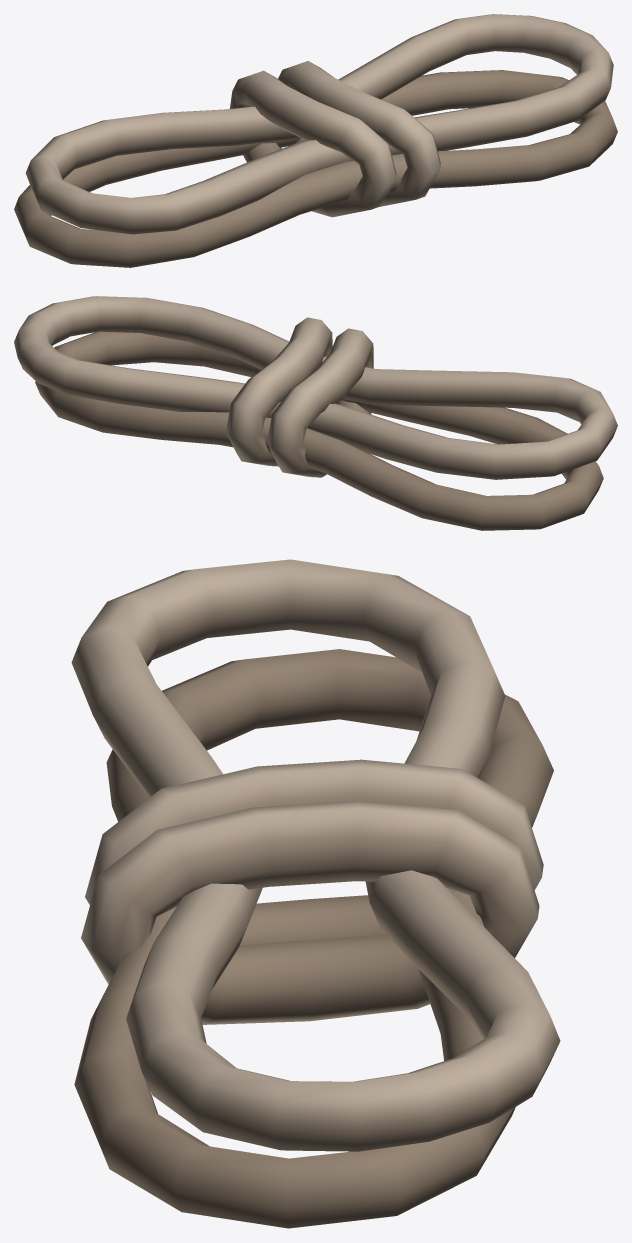
Rendered from rope_bundle_A.fbx.
3 views of the same model, one above another, from view 1: azimuth 30°, elevation 25°; view 2: azimuth 150°, elevation 25°; view 3: azimuth 270°, elevation 25° (orthographic). The views are drawn at different scales.
Visible parts, largest first — view 1: rope_bundle_A; view 2: rope_bundle_A; view 3: rope_bundle_A.
Boxes of the visible parts, bbox=[...] form: rope_bundle_A: bbox=[14, 14, 617, 267]; rope_bundle_A: bbox=[14, 296, 617, 530]; rope_bundle_A: bbox=[71, 559, 560, 1228].
Size of the model in its own units: 139 by 25.19 by 52.7.
